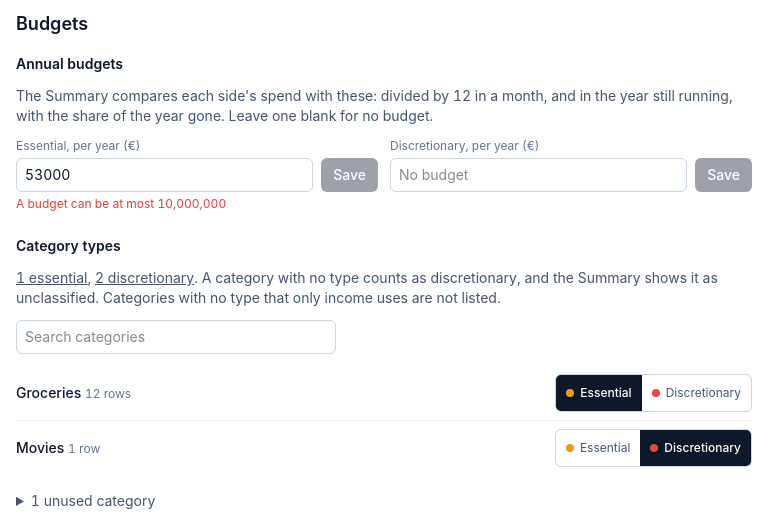
Scenario: the Budgets page › refuses an amount it can't read
Replace the text in the field labelled "Essential, per year (€)" with "lots" at (165, 175), box x1=16 y1=158 x2=313 y2=192
Then press Enter
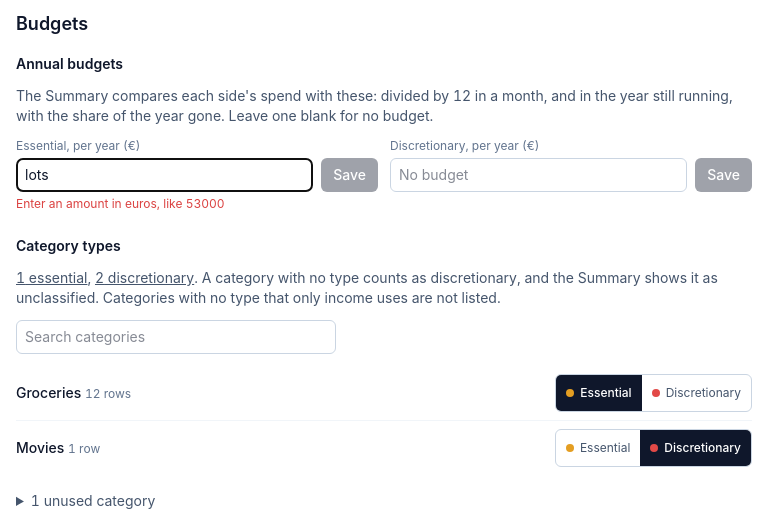
Expected: the 1st button "Save" is disabled, x1=321 y1=158 x2=378 y2=192
Expected: the message shows "Enter an amount in euros", x1=16 y1=196 x2=224 y2=211
